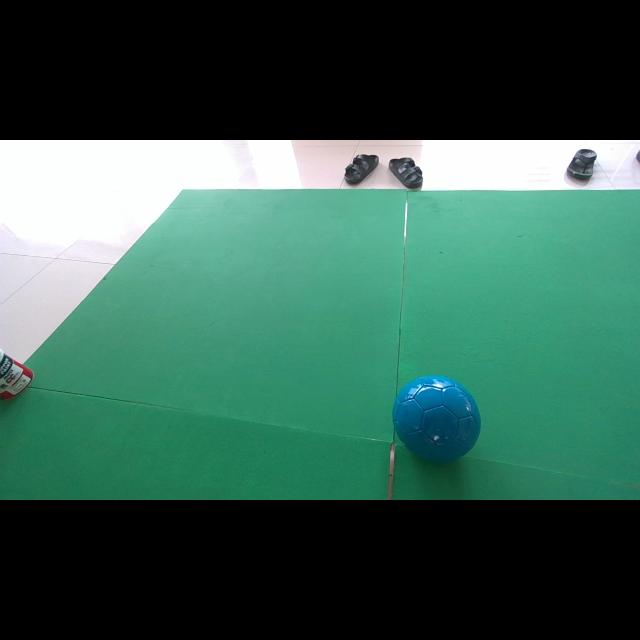B: (392, 375, 481, 462)
R: (248, 140, 301, 189)
